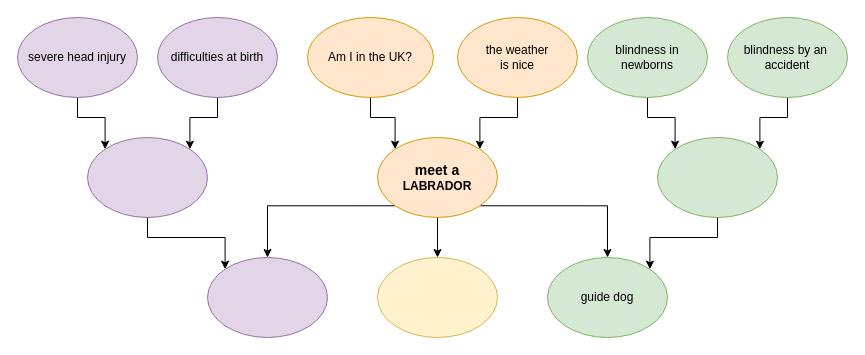
The diagram is 865 pixels wide and 355 high, and some of its shapes have lost their labels. Each missing label, with the centre of its shape:
meet a blind man: (717,177)
meet a children with epilepsy: (147,177)
pet: (437,297)
seizure dog: (267,297)
